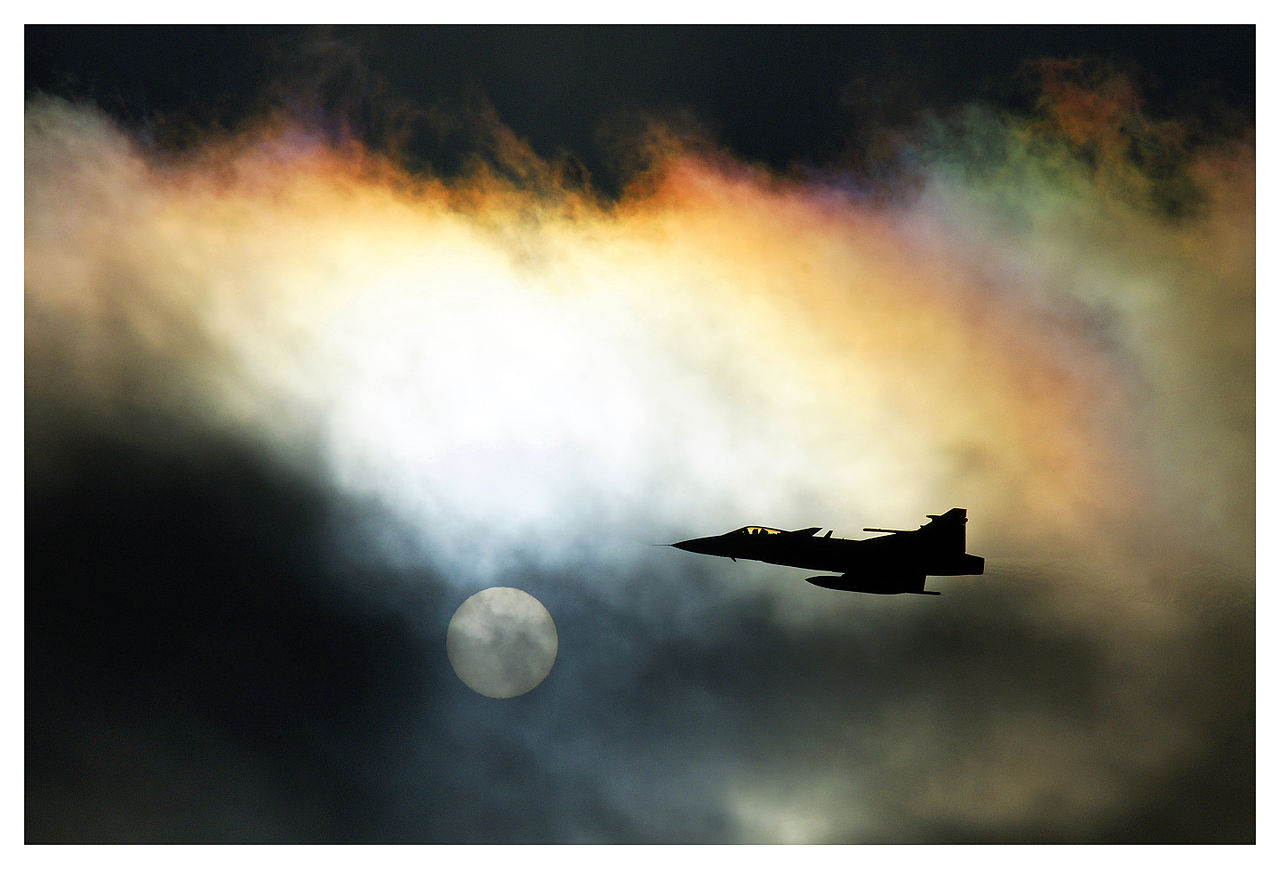JAS39: (651, 508, 985, 595)
